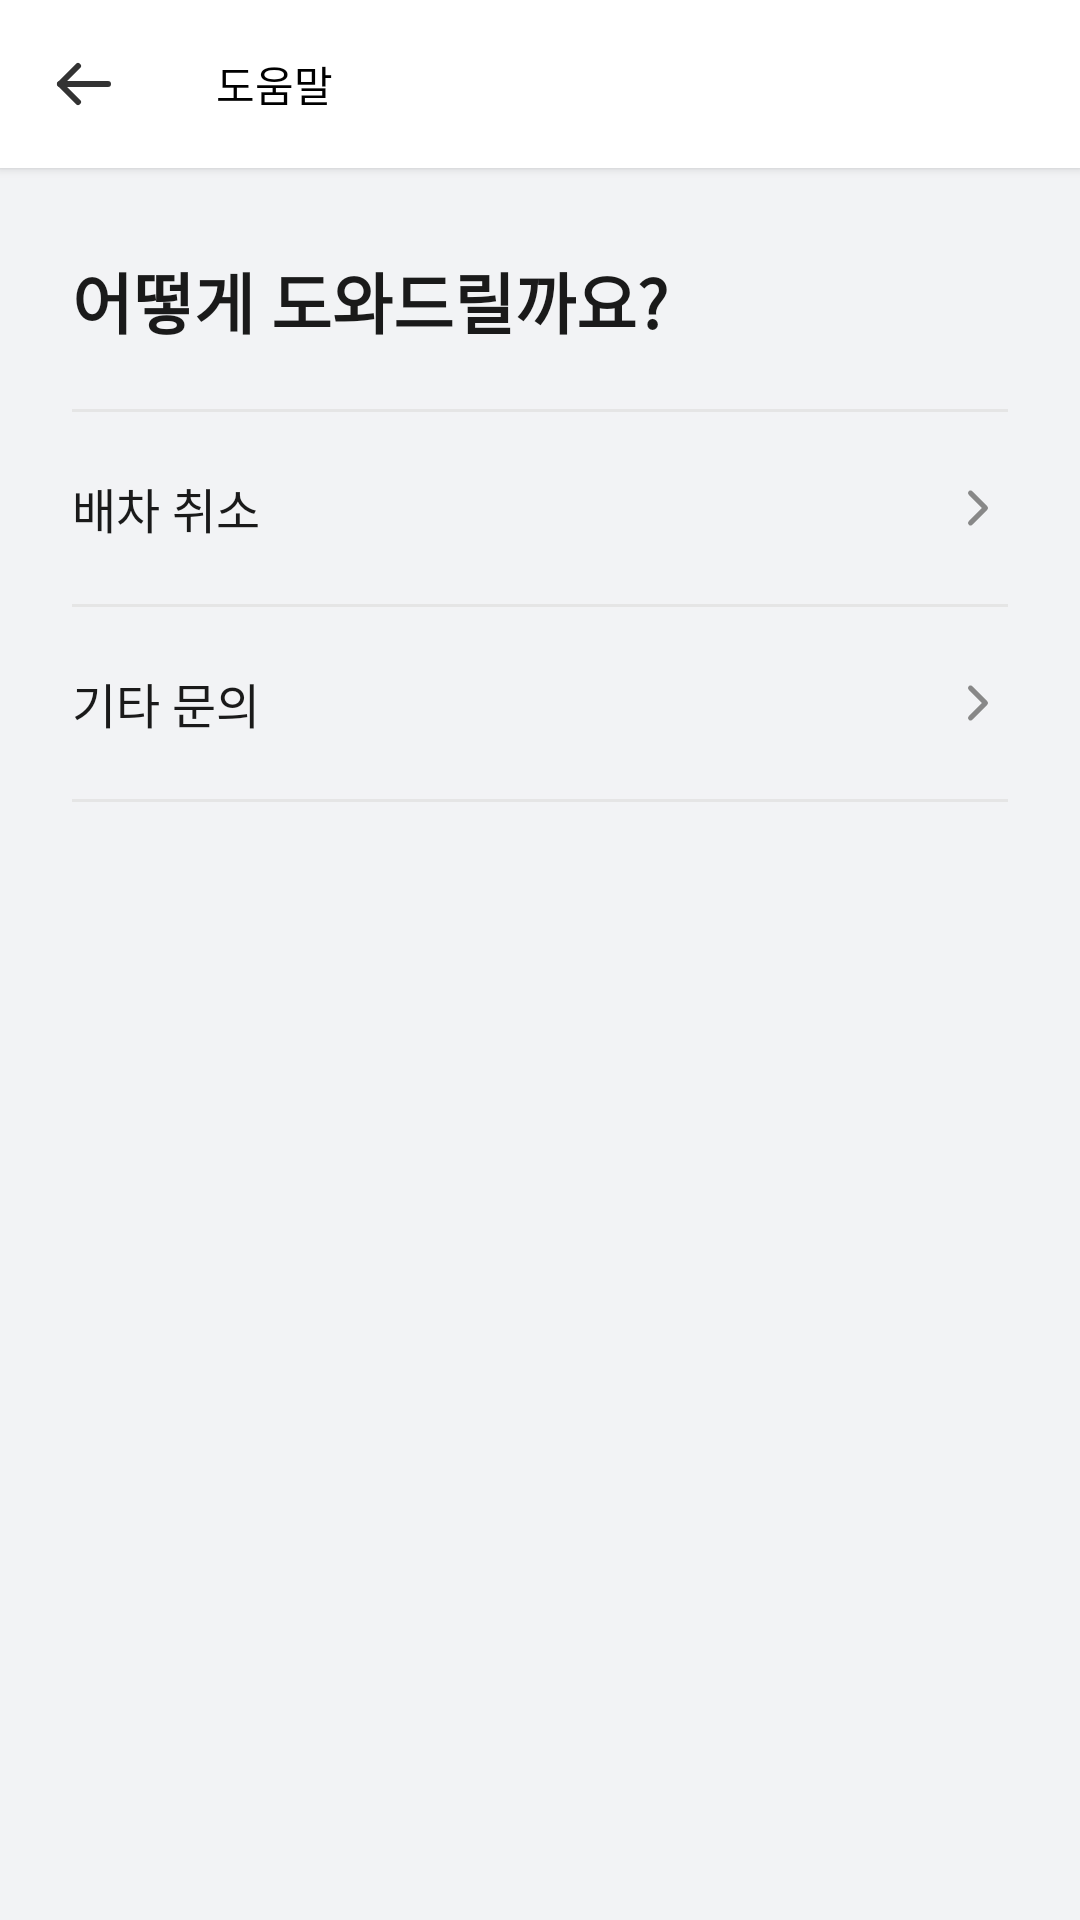

Screen size 1080 x 1920. Icon name, then its center in pixels as (x,y):
chevron right: (978,508), (978,703)
